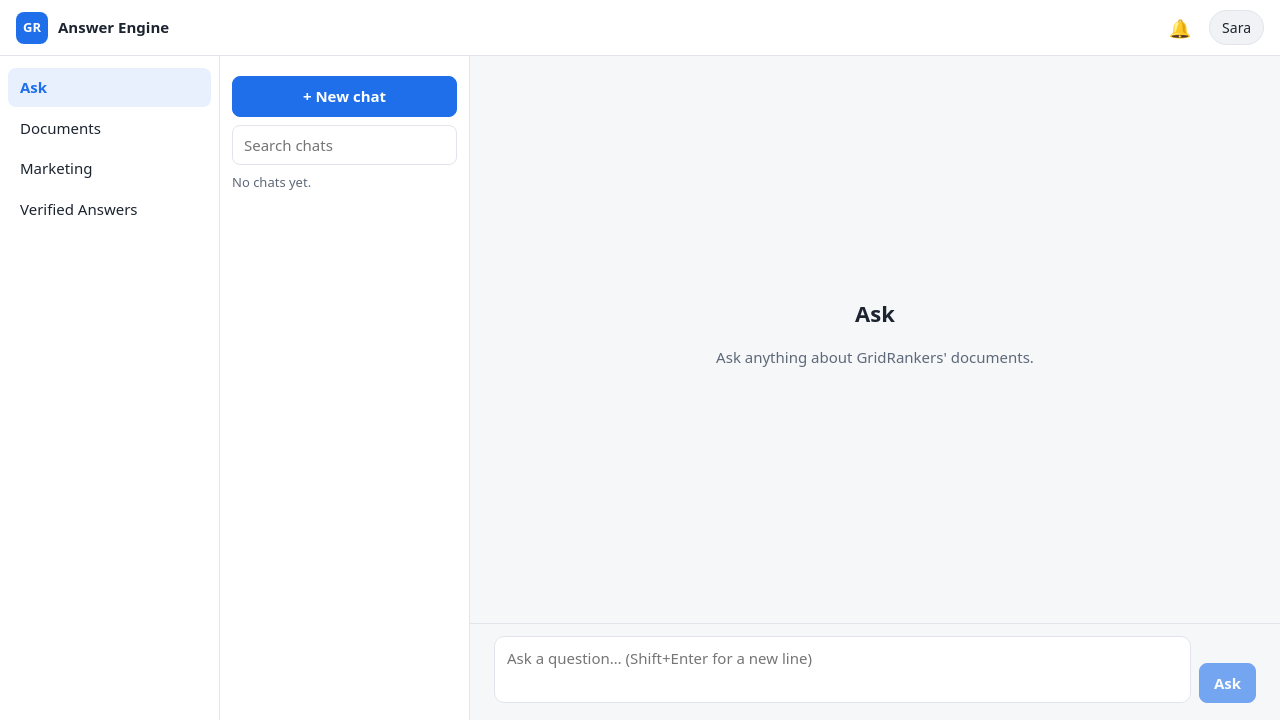
Test: the setup message shows when answering isn't configured
Type "Hello?" into the text box named "Your question" at [842, 670], box top-left (494, 636), bottom-right (1191, 703)
Then press Enter
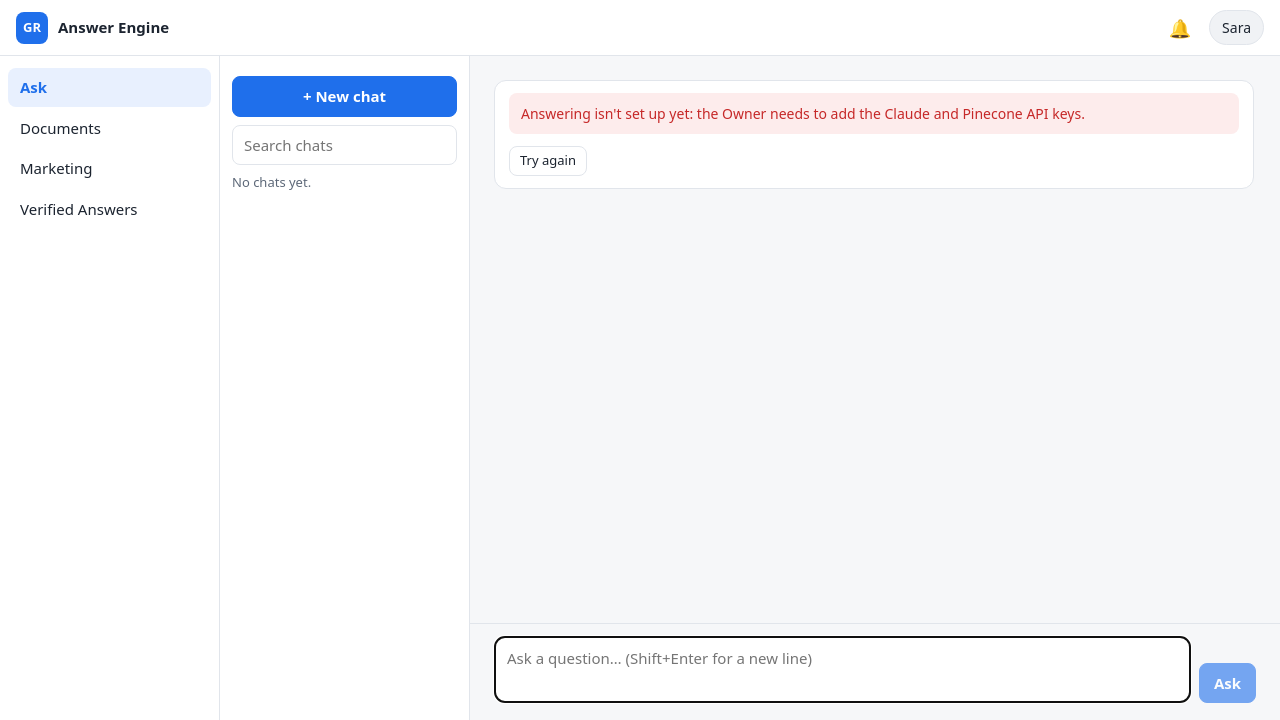
Expected: the text "Answering isn't set up yet" is shown, top-left (521, 104), bottom-right (1085, 123)
